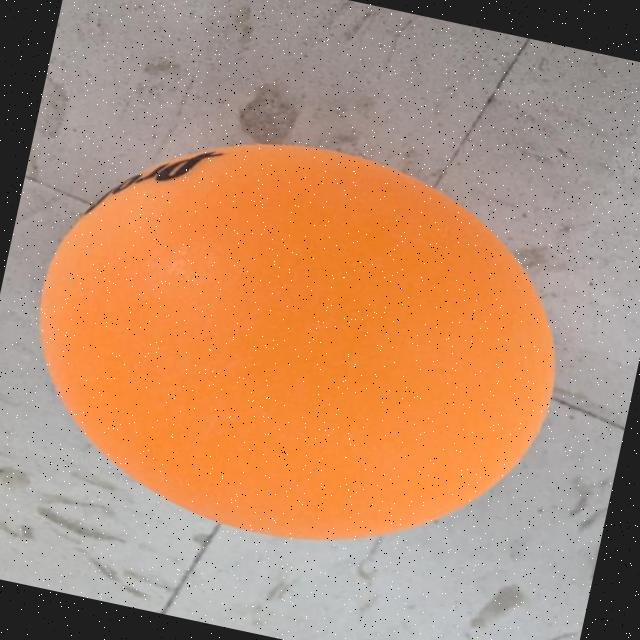ping-pong-ball: (0, 92, 613, 605)
